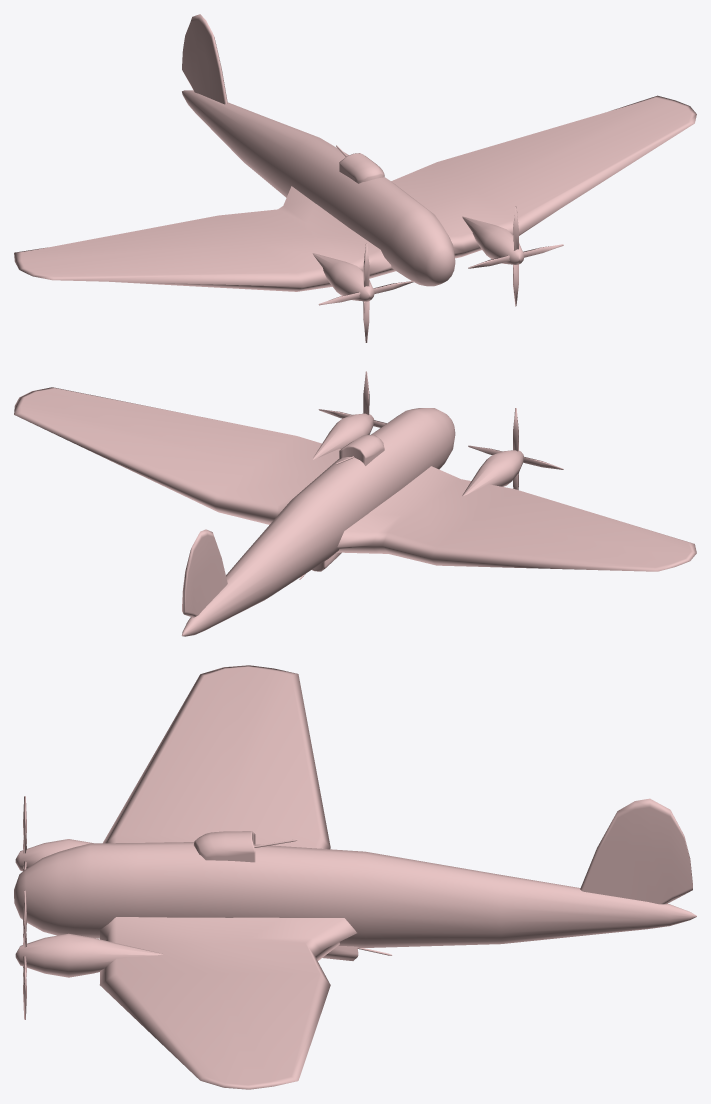
The model's file is HeinkelHE111 - Copy.fbx.
3 views of the same model, one above another, from view 1: azimuth 30°, elevation 25°; view 2: azimuth 150°, elevation 25°; view 3: azimuth 270°, elevation 25° (orthographic). The views are drawn at different scales.
Visible parts, largest first — view 1: HE112, Aspas_2; view 2: HE112, Aspas_2; view 3: HE112, Aspas_2.
Part boxes in pixels (box(x1,y1,x2,y2)): HE112: box(14, 14, 696, 301); Aspas_2: box(318, 206, 563, 342); HE112: box(14, 387, 696, 636); Aspas_2: box(318, 371, 563, 489); HE112: box(14, 665, 696, 1089); Aspas_2: box(23, 796, 26, 1019).
Size of the model in its own units: 874 by 167 by 594.
